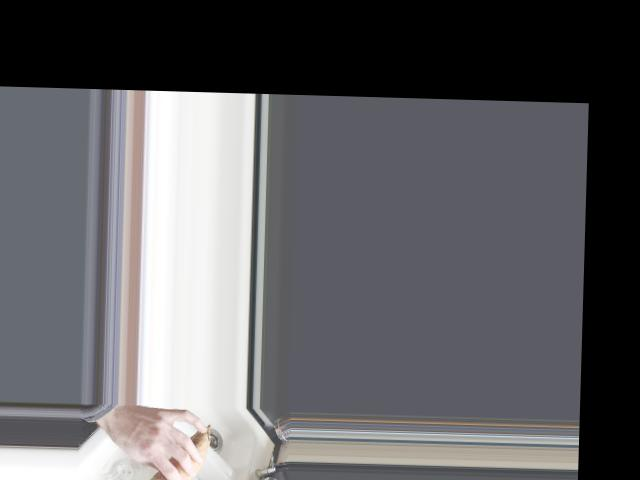sweet_potato: (146, 421, 210, 480)
